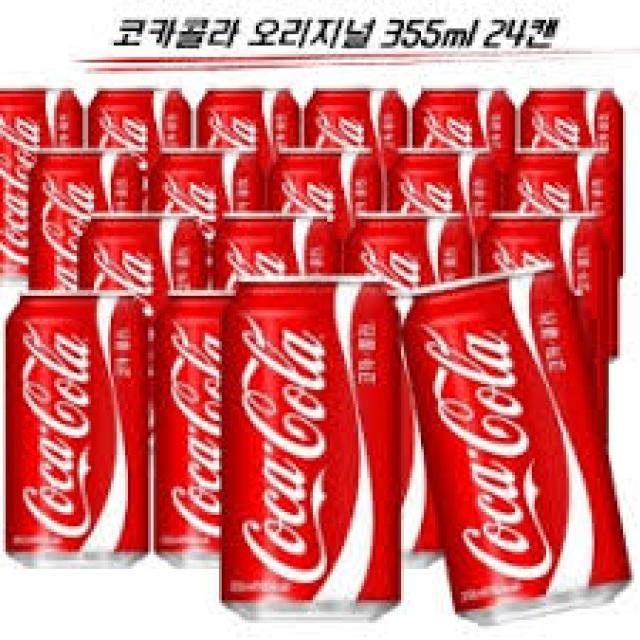Coca-Cola: (397, 268, 637, 630), (219, 273, 405, 627), (3, 288, 154, 568)
